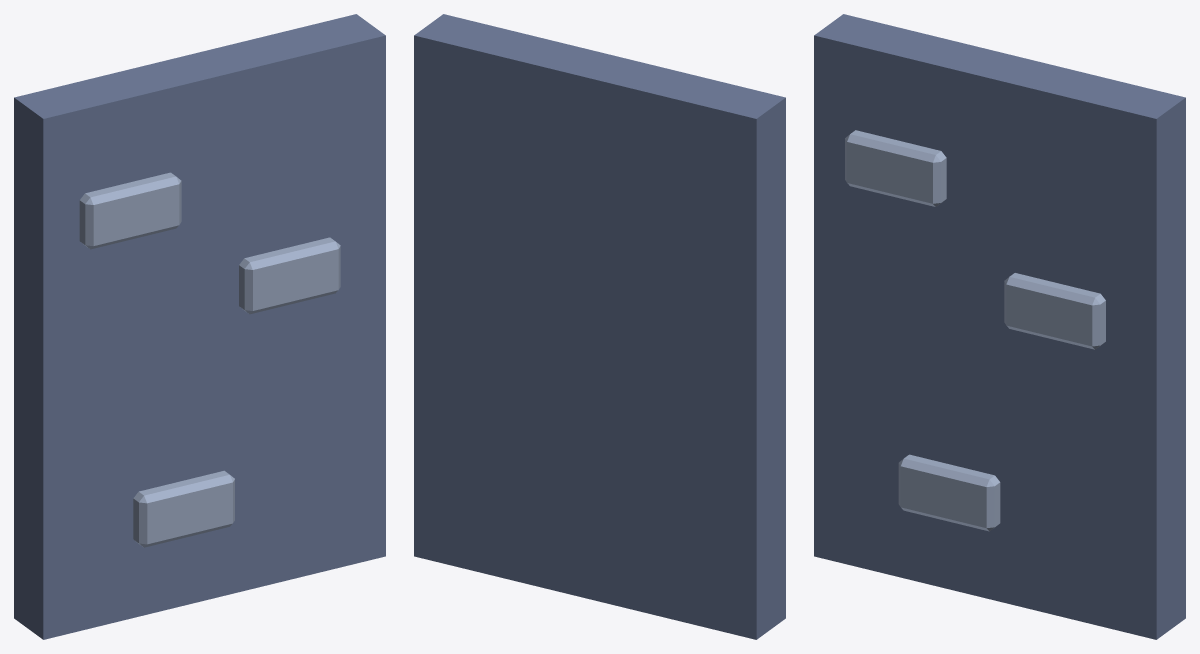
File: muro simple 4.fbx
3 views of the same model, side by side, from view 1: azimuth 30°, elevation 25°; view 2: azimuth 150°, elevation 25°; view 3: azimuth 330°, elevation 25° (orthographic).
Parts seen in each view (by area): view 1: smooth wall.003; view 2: smooth wall.003; view 3: smooth wall.003.
Boxes of the visible parts, <box> form: smooth wall.003: <box>14,14,385,639</box>; smooth wall.003: <box>414,14,785,639</box>; smooth wall.003: <box>814,14,1185,639</box>.
Bounding box in the file's own units: 211 × 306 × 40.36.
